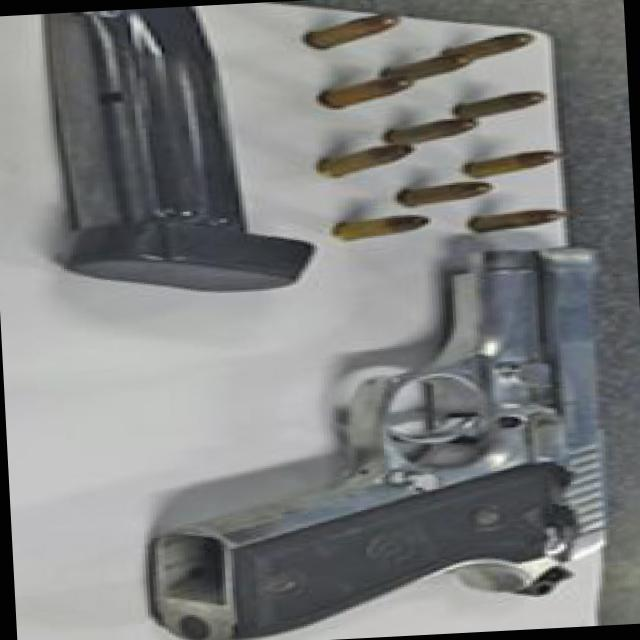handgun: (128, 232, 627, 639)
